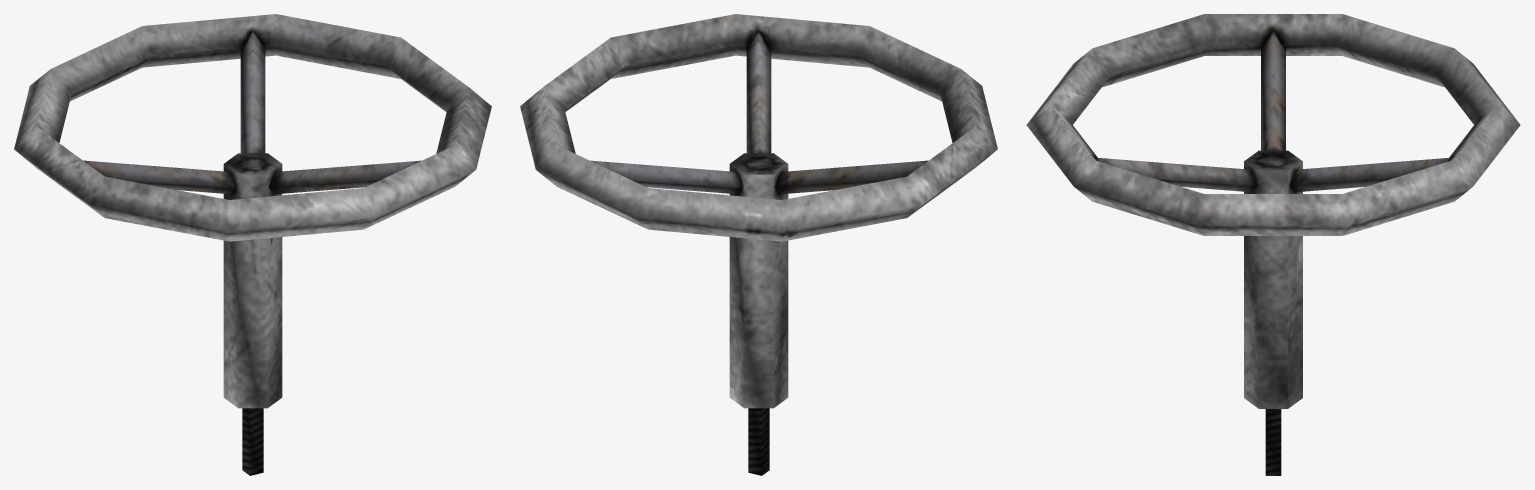
The model's file is acid_machine_valve_y.dae.
3 renders of one model, left to right at view 1: azimuth 30°, elevation 25°; view 2: azimuth 150°, elevation 25°; view 3: azimuth 270°, elevation 25°, orthographic.
Visible parts, largest first — view 1: acid_machine_burnerva; view 2: acid_machine_burnerva; view 3: acid_machine_burnerva.
Part boxes in pixels (x1=…): acid_machine_burnerva: x1=14, y1=14, x2=491, y2=475; acid_machine_burnerva: x1=520, y1=14, x2=997, y2=475; acid_machine_burnerva: x1=1026, y1=14, x2=1520, y2=475.
Bounding box in the file's own units: 0.3388 × 0.3562 × 0.2931.
